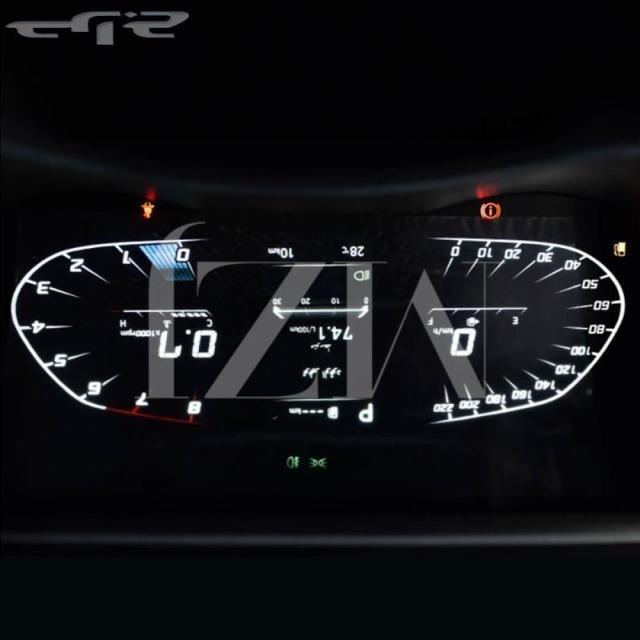Seat Belt: (141, 201, 154, 218)
